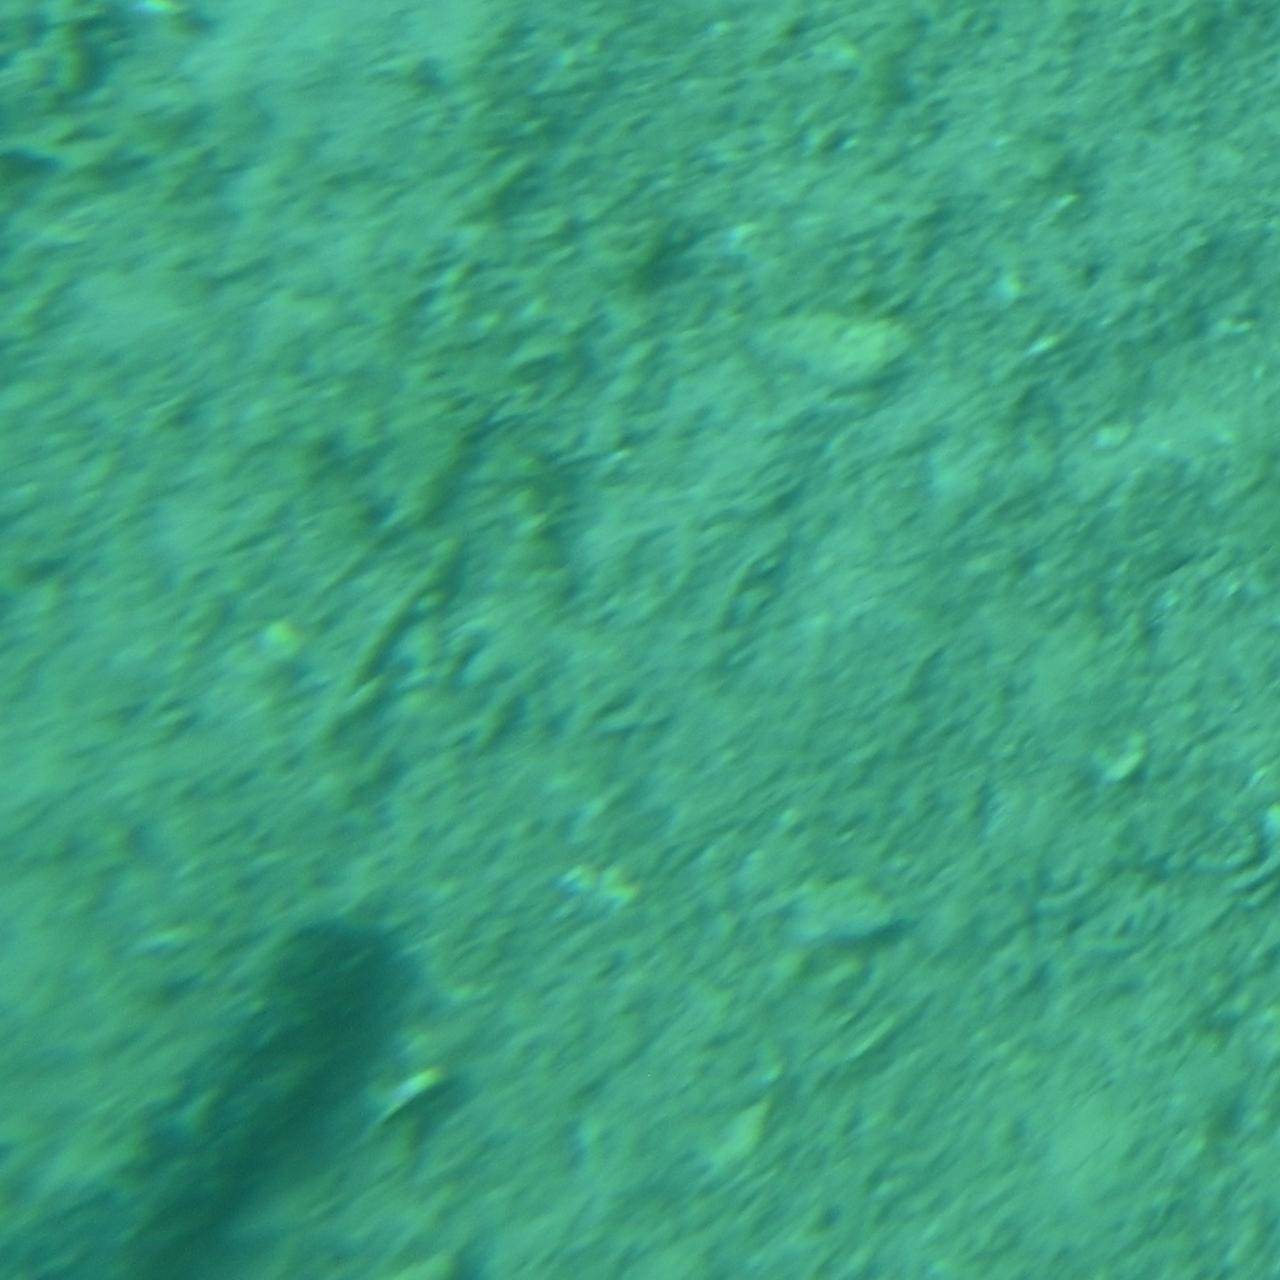Holothuria tubulosa: (0, 891, 396, 1280)
